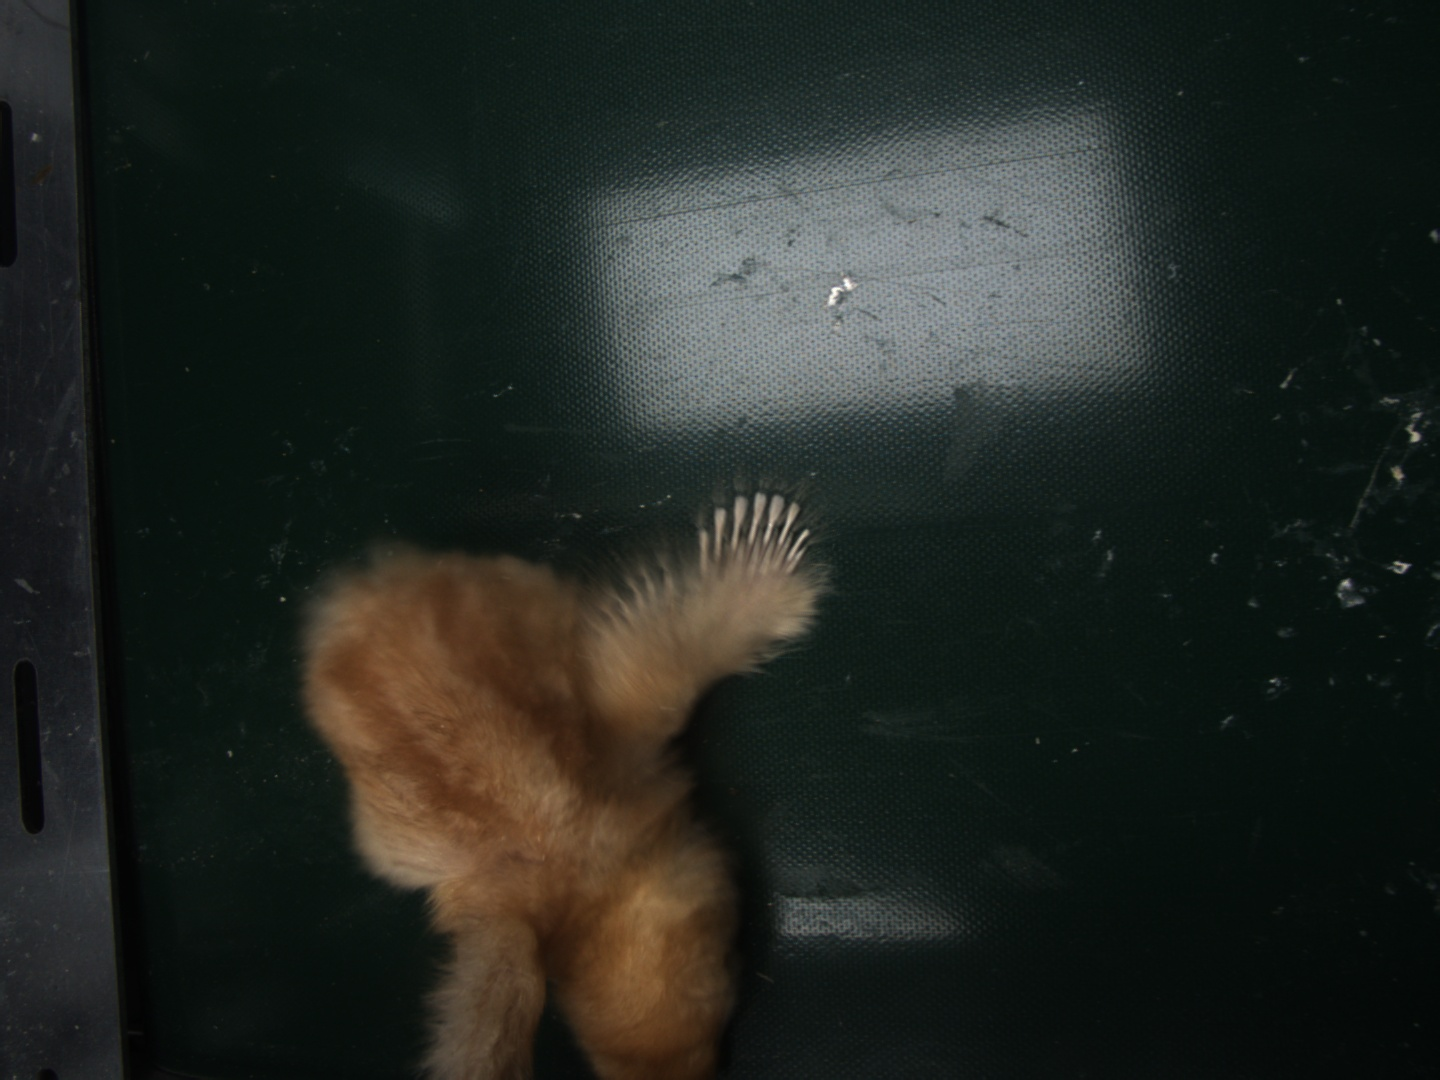female: (696, 493, 810, 584)
